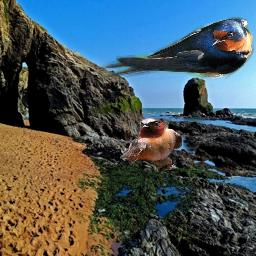Swallow: (100, 17, 254, 79), (120, 118, 182, 170)
